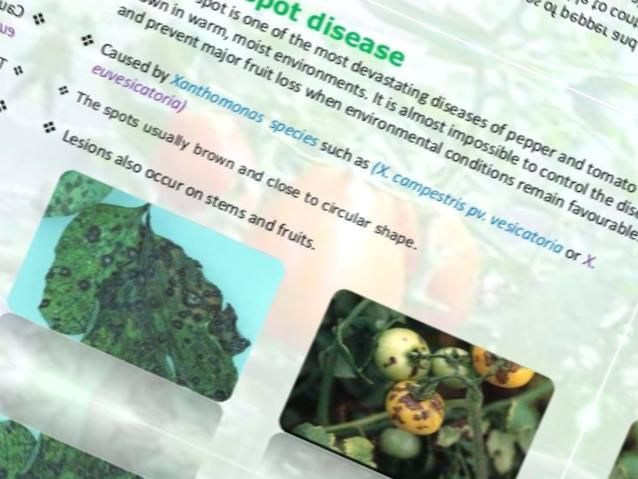Tomato leaf bacterial spot: (24, 183, 285, 406)
